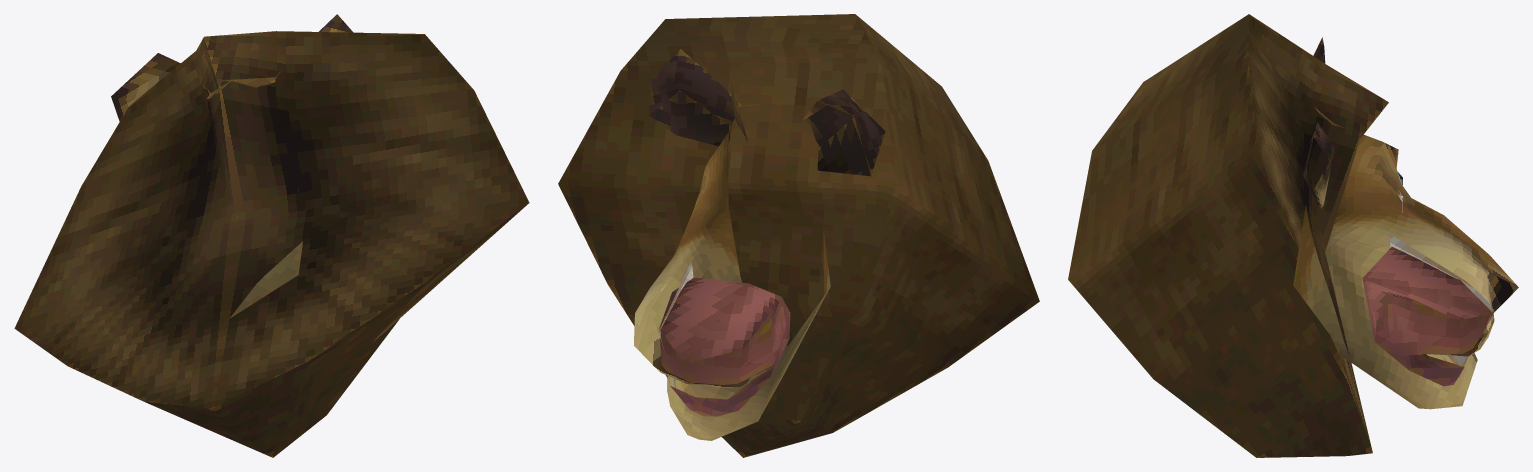
Rendered from ps2_save-icons_madagascarescape2africa.glb.
3 renders of one model, left to right at view 1: azimuth 30°, elevation 25°; view 2: azimuth 150°, elevation 25°; view 3: azimuth 270°, elevation 25°, orthographic. The views are drawn at different scales.
Visible parts, largest first — view 1: icon1.ico; view 2: icon1.ico; view 3: icon1.ico.
Boxes of the visible parts, x1,y1,x2,y2 form: icon1.ico: (14, 14, 529, 457); icon1.ico: (558, 14, 1039, 457); icon1.ico: (1068, 14, 1518, 457).
Bounding box in the file's own units: 4.21 × 3.12 × 3.33.
1 material, 1 textured.
